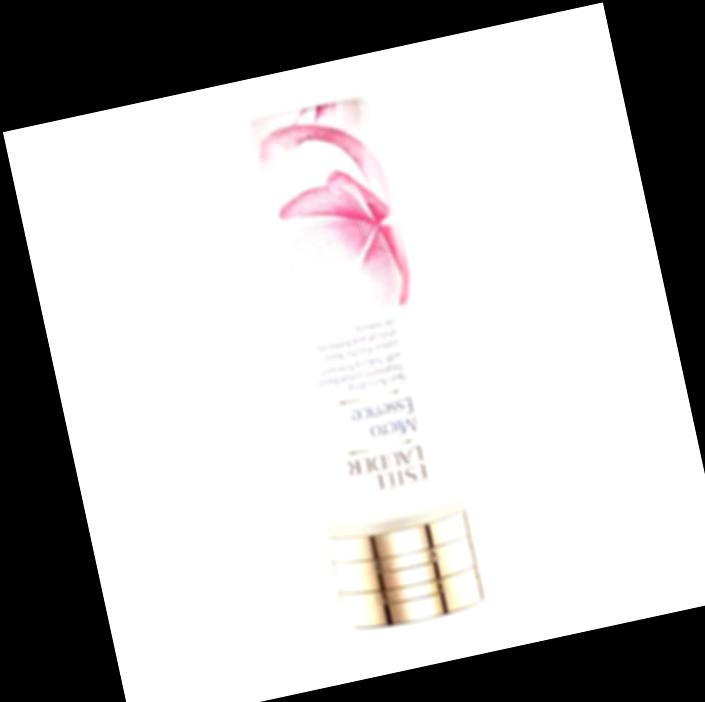cosmetic: (238, 93, 478, 630)
